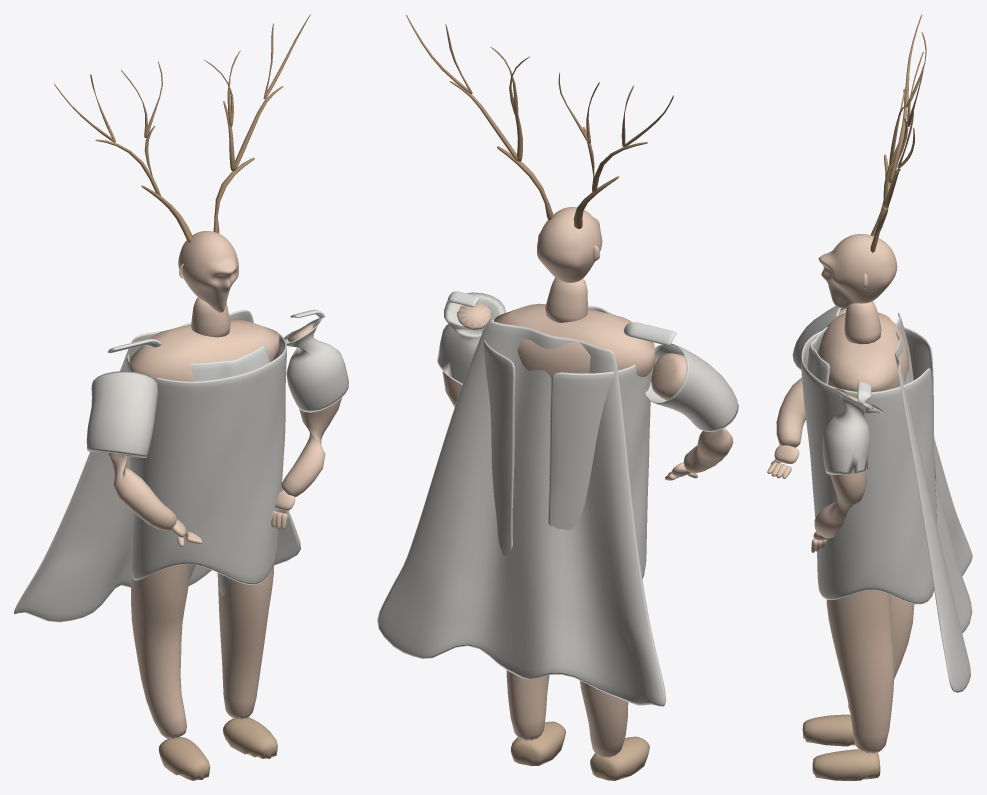
The model's file is grove_brute.glb.
3 renders of one model, left to right at view 1: azimuth 30°, elevation 25°; view 2: azimuth 150°, elevation 25°; view 3: azimuth 270°, elevation 25°, orthographic. The views are drawn at different scales.
Parts seen in each view (by area): view 1: Robe, Cape, LegR, LegL, SleeveR, Body, SleeveL, Head, ArmL, ArmR, BootL, BootR (+2 smaller); view 2: Cape, Robe, Body, SleeveR, Head, ArmR, SleeveL, LegR, LegL, BootR, Neck, BootL (+2 smaller); view 3: Robe, LegL, Cape, Body, Head, SleeveL, ArmL, BootL, ArmR, BootR, Neck, LegR (+3 smaller).
Boxes of the visible parts, x1,y1,x2,y2 form: Robe: [126, 332, 286, 584]; Cape: [14, 309, 300, 622]; LegR: [131, 564, 189, 739]; LegL: [217, 565, 273, 719]; SleeveR: [86, 371, 158, 457]; Body: [130, 320, 279, 381]; SleeveL: [279, 317, 348, 412]; Head: [178, 231, 238, 312]; ArmL: [281, 324, 342, 497]; ArmR: [108, 453, 176, 530]; BootL: [223, 717, 277, 758]; BootR: [158, 737, 210, 780]; Cape: [377, 320, 665, 706]; Robe: [482, 319, 651, 578]; Body: [494, 303, 655, 377]; SleeveR: [644, 344, 738, 432]; Head: [537, 207, 602, 282]; ArmR: [651, 353, 733, 473]; SleeveL: [437, 292, 506, 384]; LegR: [579, 680, 628, 757]; LegL: [506, 670, 549, 740]; BootR: [590, 736, 649, 780]; Neck: [545, 277, 587, 322]; BootL: [510, 721, 565, 765]; Robe: [801, 327, 936, 604]; LegL: [826, 590, 894, 753]; Cape: [895, 312, 972, 692]; Body: [817, 312, 908, 392]; Head: [818, 234, 897, 308]; SleeveL: [822, 388, 884, 474]; ArmL: [814, 393, 873, 537]; BootL: [812, 749, 880, 780]; ArmR: [776, 308, 846, 447]; BootR: [802, 714, 855, 746]; Neck: [844, 301, 881, 344]; LegR: [848, 595, 914, 712].
Bounding box in the file's own units: 1 × 2.37 × 0.6395.
